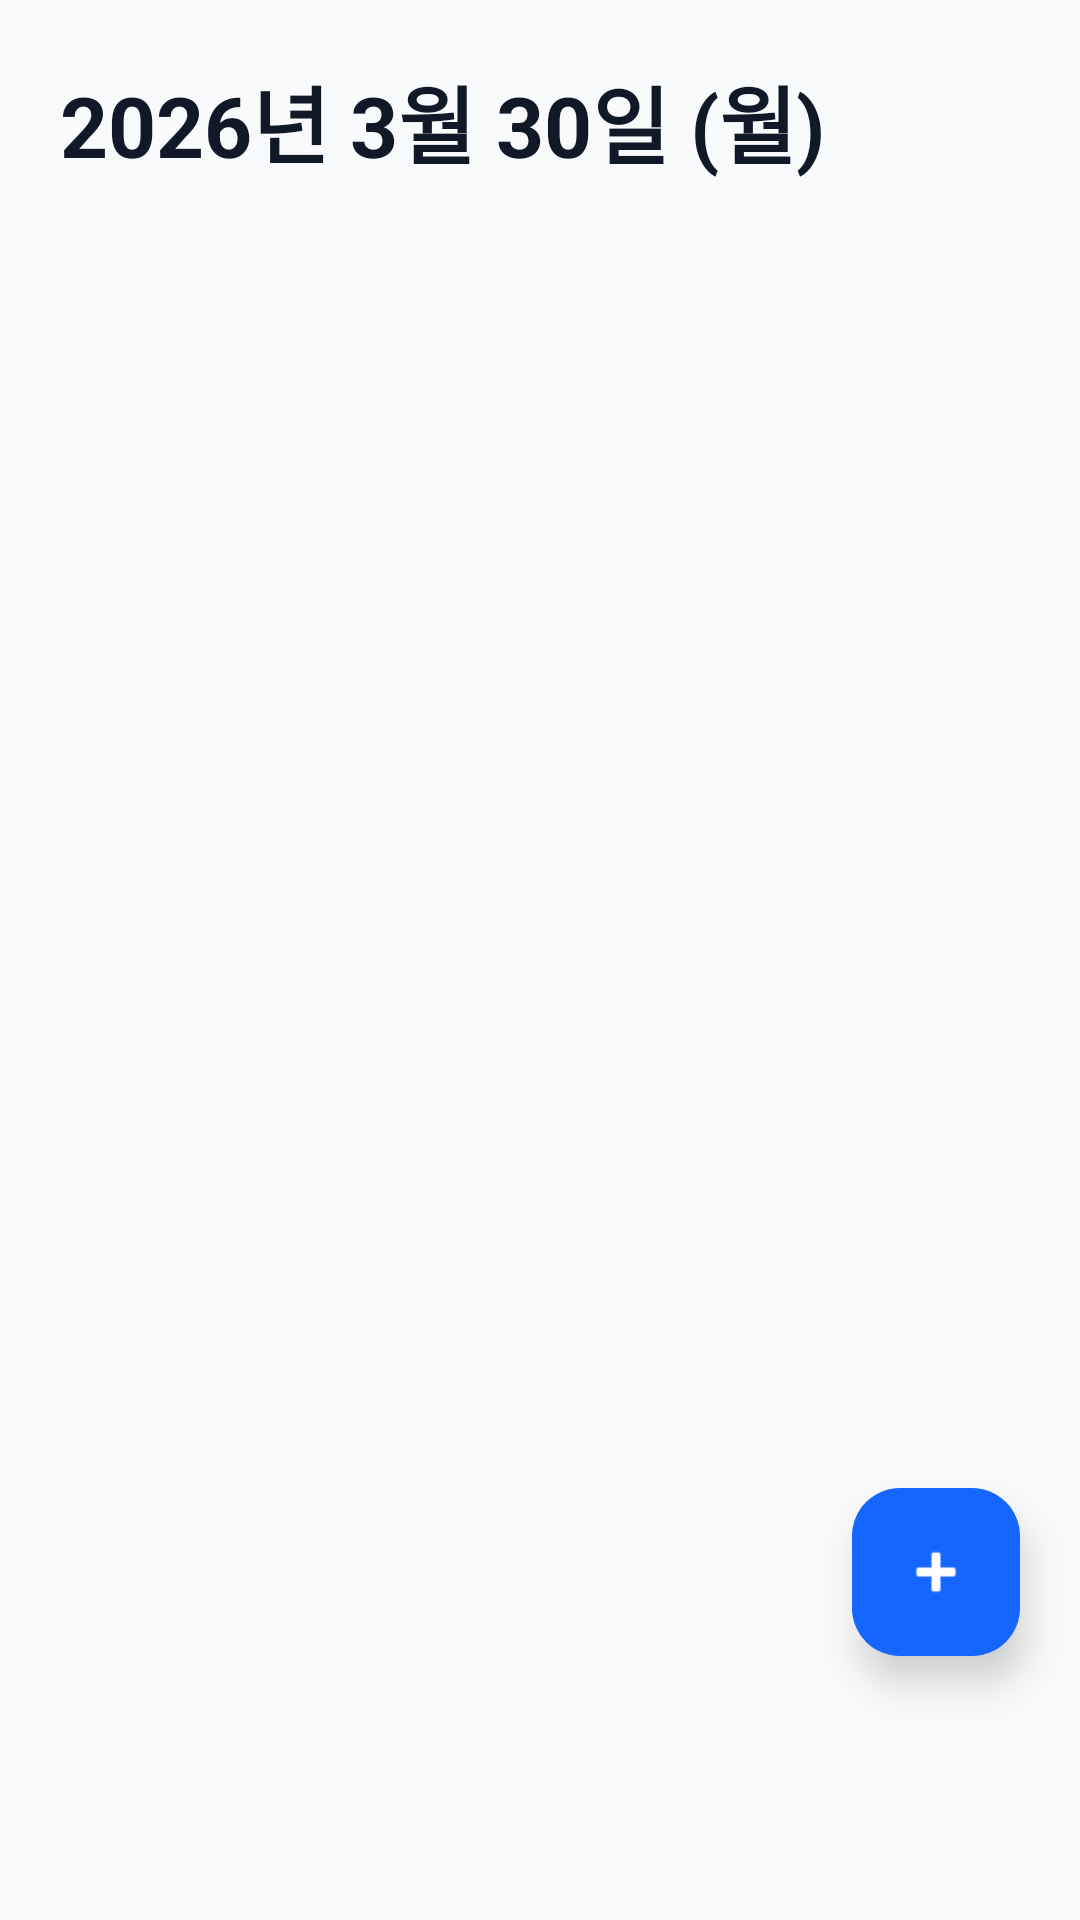

Screen size 1080px x 1920px. Icon name, then its center in pixels as (x=x, y=y):
할 일 추가: (x=936, y=1572)
